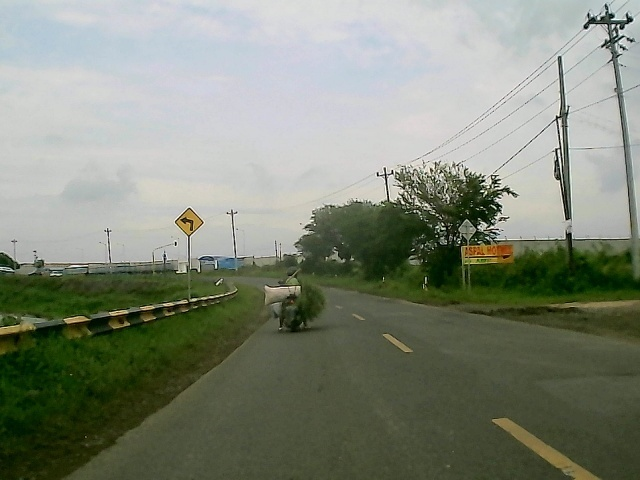Tikungan tajam ke kiri: (173, 206, 206, 238)
